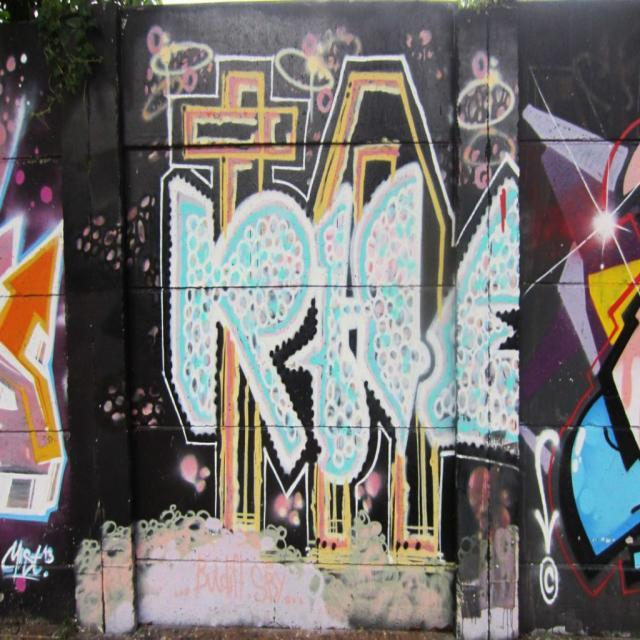-: (78, 21, 520, 554), (524, 103, 640, 608), (0, 52, 69, 579)
